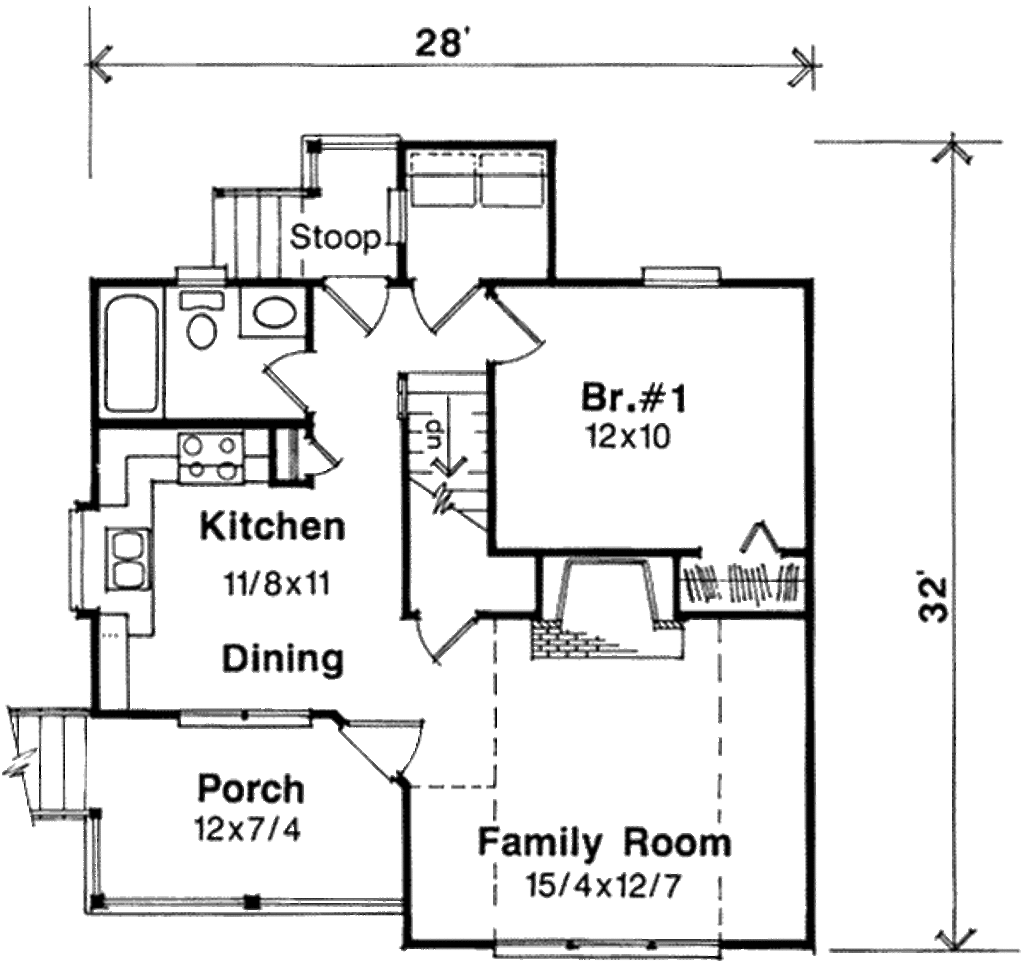door: (346, 709, 433, 775), (318, 275, 394, 334), (491, 292, 547, 363), (409, 280, 484, 333), (412, 604, 476, 666), (255, 350, 312, 414)
large_sink: (172, 286, 231, 356)
small_sink: (237, 288, 306, 338)
stairs: (398, 366, 493, 559), (1, 698, 99, 826), (202, 191, 296, 276)
tub: (96, 282, 167, 416)
twin_sink: (101, 527, 153, 596)
windows: (489, 937, 738, 968), (177, 709, 312, 734), (637, 264, 727, 288)
